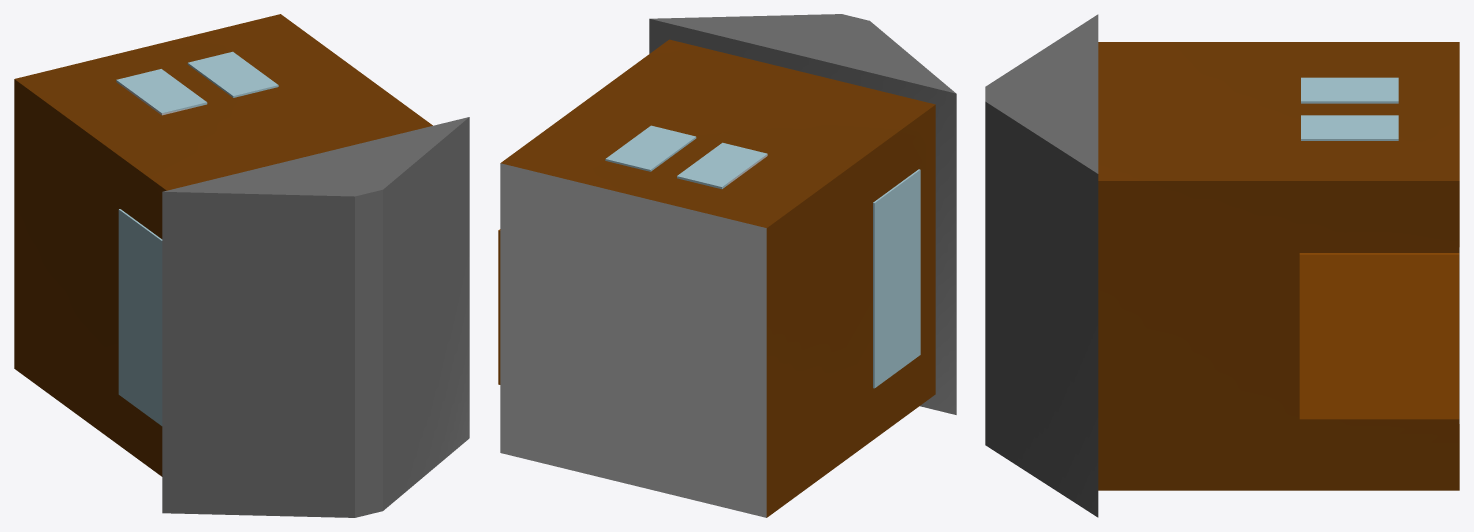
File: ТХ_1Origin.fbx
The picture shows the model from 3 angles, left to right: view 1: azimuth 30°, elevation 25°; view 2: azimuth 150°, elevation 25°; view 3: azimuth 270°, elevation 25°; orthographic projection. The views are drawn at different scales.
Parts seen in each view (by area): view 1: ТХ_1; view 2: ТХ_1; view 3: ТХ_1.
Part boxes in pixels (box(x1,y1,x2,y2)): ТХ_1: box(14, 14, 469, 517); ТХ_1: box(498, 14, 956, 517); ТХ_1: box(985, 14, 1459, 517).
Size of the model in its own units: 2 by 2 by 2.5.
